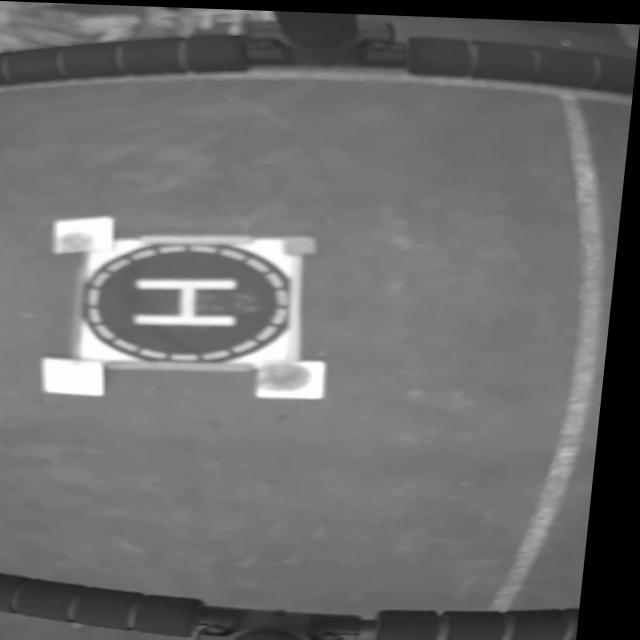Helipad: (138, 274, 246, 325)
